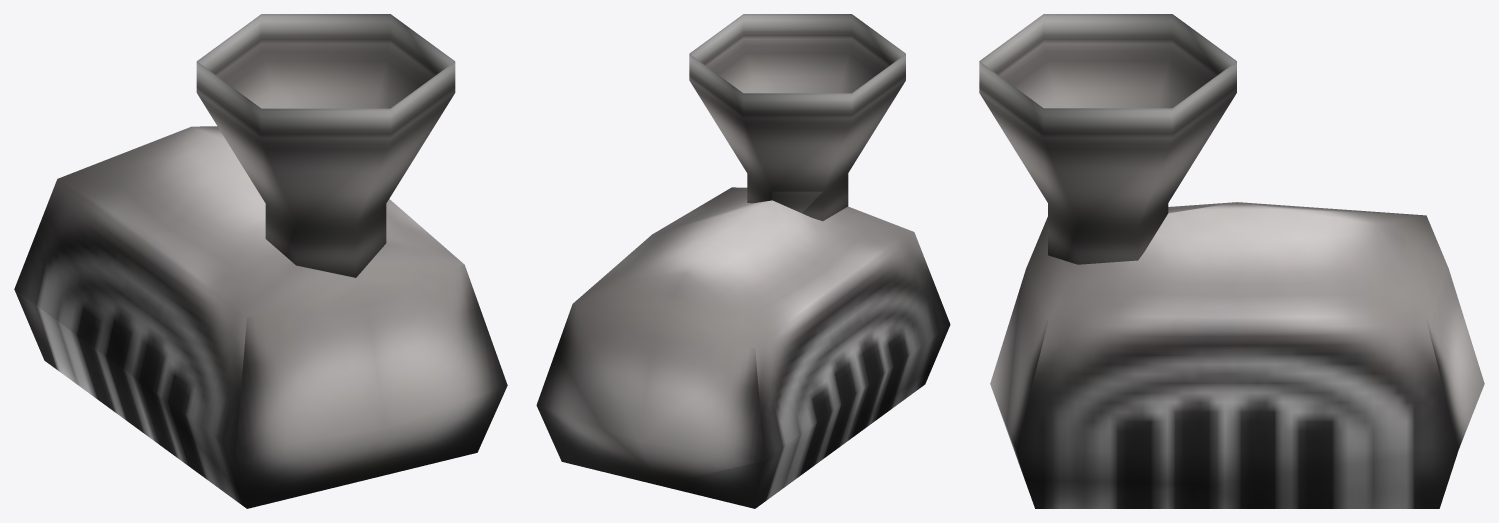
Rendered from acc_8.glb.
The picture shows the model from 3 angles, left to right: view 1: azimuth 30°, elevation 25°; view 2: azimuth 150°, elevation 25°; view 3: azimuth 270°, elevation 25°; orthographic projection. The views are drawn at different scales.
Parts seen in each view (by area): view 1: base, vertex; view 2: base, vertex; view 3: base, vertex.
Boxes of the visible parts, left/top/right/bottom form: base: left=14, top=126, right=507, bottom=508; vertex: left=196, top=14, right=455, bottom=277; base: left=536, top=187, right=950, bottom=508; vertex: left=689, top=14, right=905, bottom=221; base: left=990, top=202, right=1484, bottom=508; vertex: left=979, top=14, right=1236, bottom=264.
Bounding box in the file's own units: 0.2707 × 0.3741 × 0.4374.
2 materials, 2 textured.
